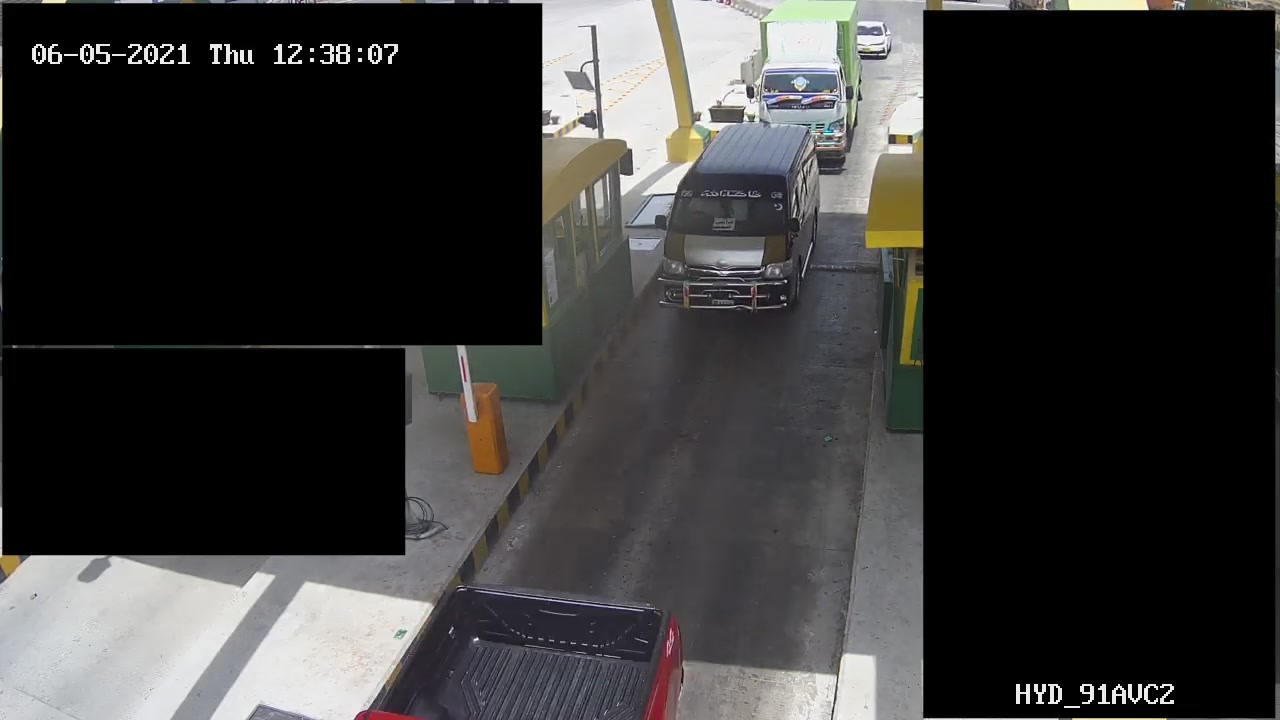F2: (662, 122, 825, 319)
